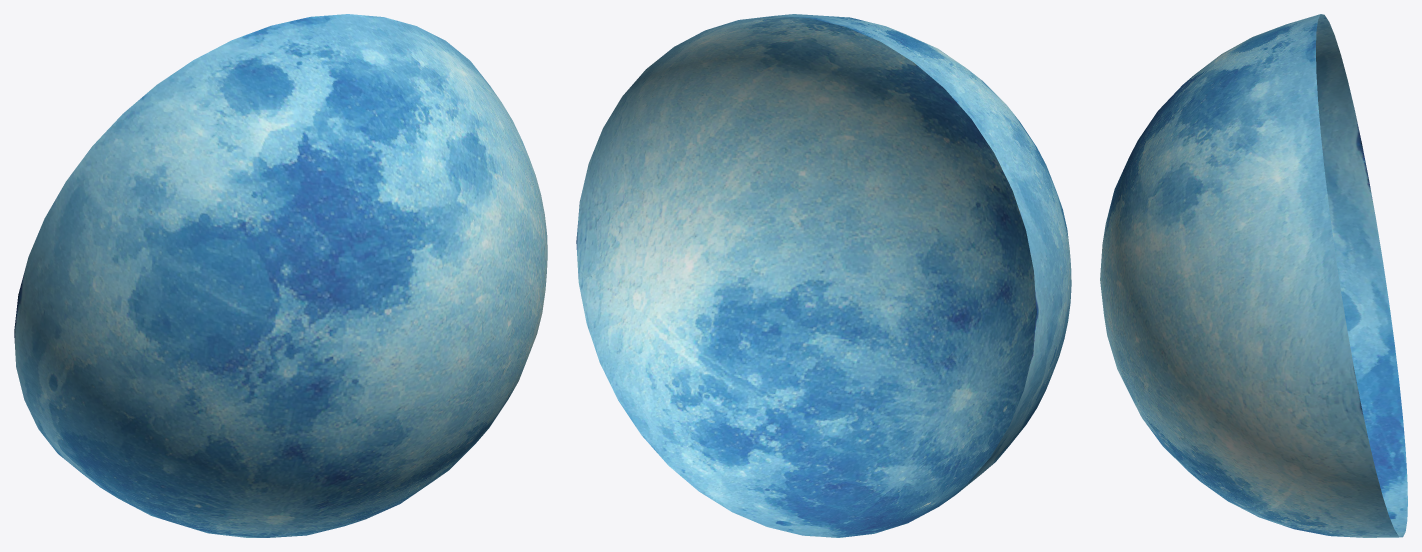
File: ts_nhxmoon.FBX
The picture shows the model from 3 angles, left to right: view 1: azimuth 30°, elevation 25°; view 2: azimuth 150°, elevation 25°; view 3: azimuth 270°, elevation 25°; orthographic projection. The views are drawn at different scales.
Visible parts, largest first — view 1: ts_xyyx_yl001; view 2: ts_xyyx_yl001; view 3: ts_xyyx_yl001.
Boxes of the visible parts, bbox=[...] form: ts_xyyx_yl001: bbox=[14, 14, 547, 537]; ts_xyyx_yl001: bbox=[576, 14, 1071, 537]; ts_xyyx_yl001: bbox=[1100, 14, 1407, 537].
Bounding box in the file's own units: 225 × 222 × 131.
